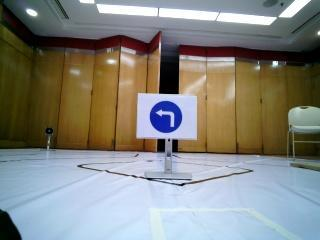left: (139, 95, 201, 137)
